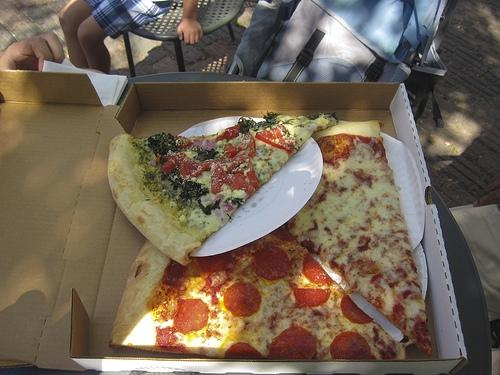tomato: (255, 124, 297, 154), (198, 152, 250, 176), (210, 163, 234, 195), (156, 152, 186, 176), (234, 132, 256, 158), (231, 173, 255, 196), (215, 130, 239, 142), (246, 170, 260, 190), (176, 136, 192, 148)
